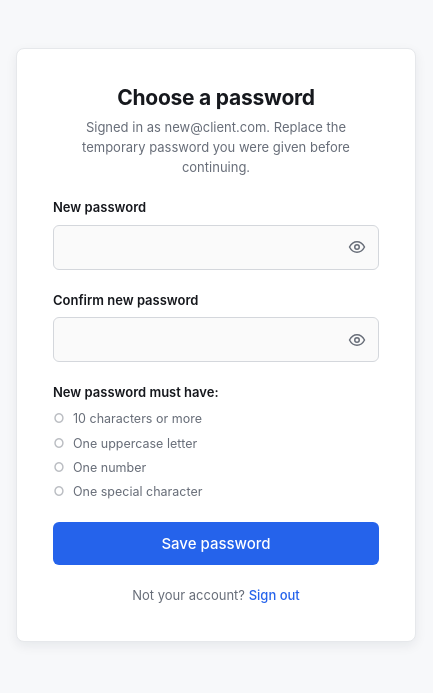
Test case: forced first-time password change › refuses a password that fails the policy
Expected: the heading "Choose a password" is shown, [117,85,315,110]
Type "Abc3!fghi" into the password field labelled "New password" at (216, 247), box [53,225,379,270]
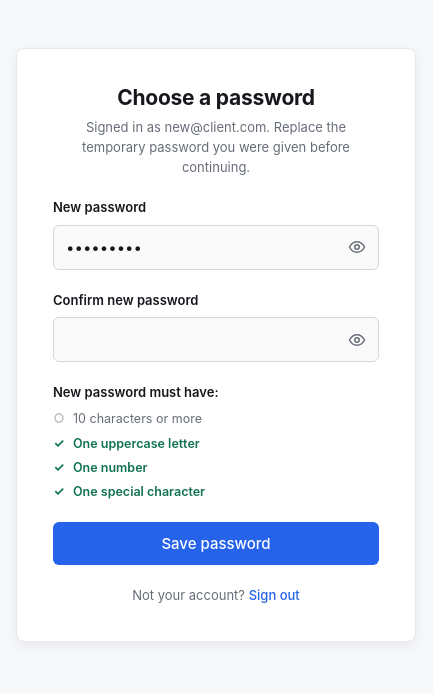
Type "Abc3!fghi" into the password field labelled "Confirm new password" at (216, 340), box [53,317,379,362]
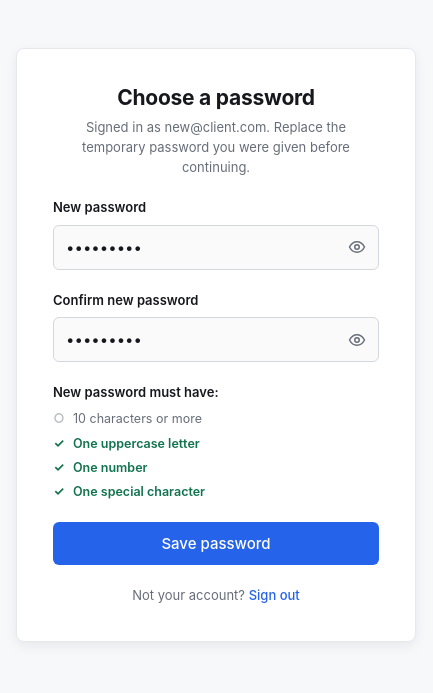
Click the button "Save password" at (216, 543), box [53,522,379,565]
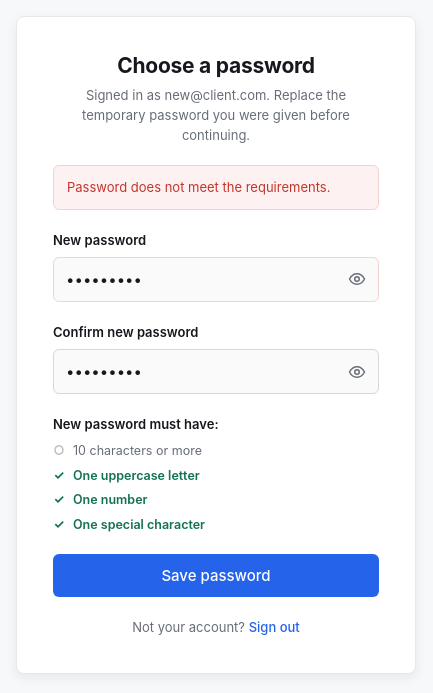
Now the message shows "does not meet the requirements", box [67,179,330,195]
